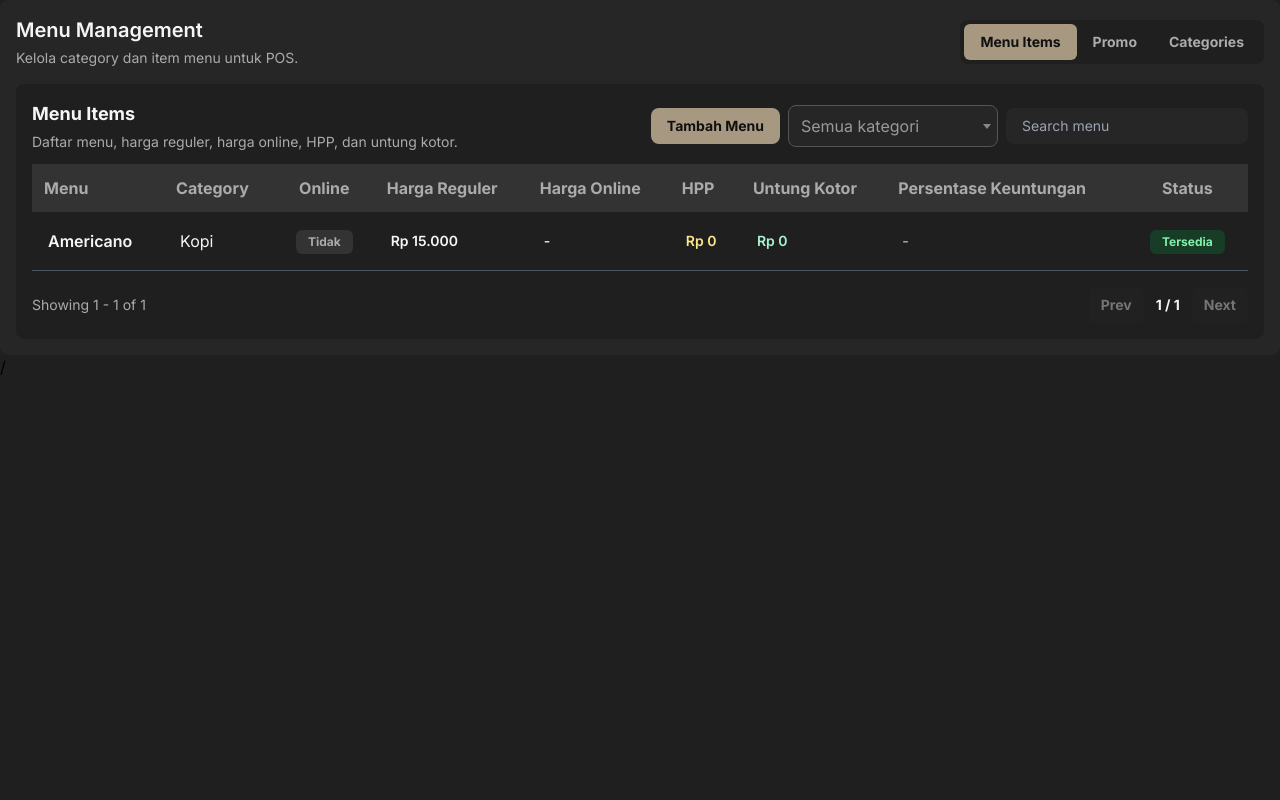
Test case: menu recipe editor › lets kasir add menus, promos and categories but change or delete nothing
Expected: the text "Americano" is shown, x1=32 y1=212 x2=164 y2=270
Click the button "Tambah Menu": (715, 126) x1=651 y1=108 x2=780 y2=144
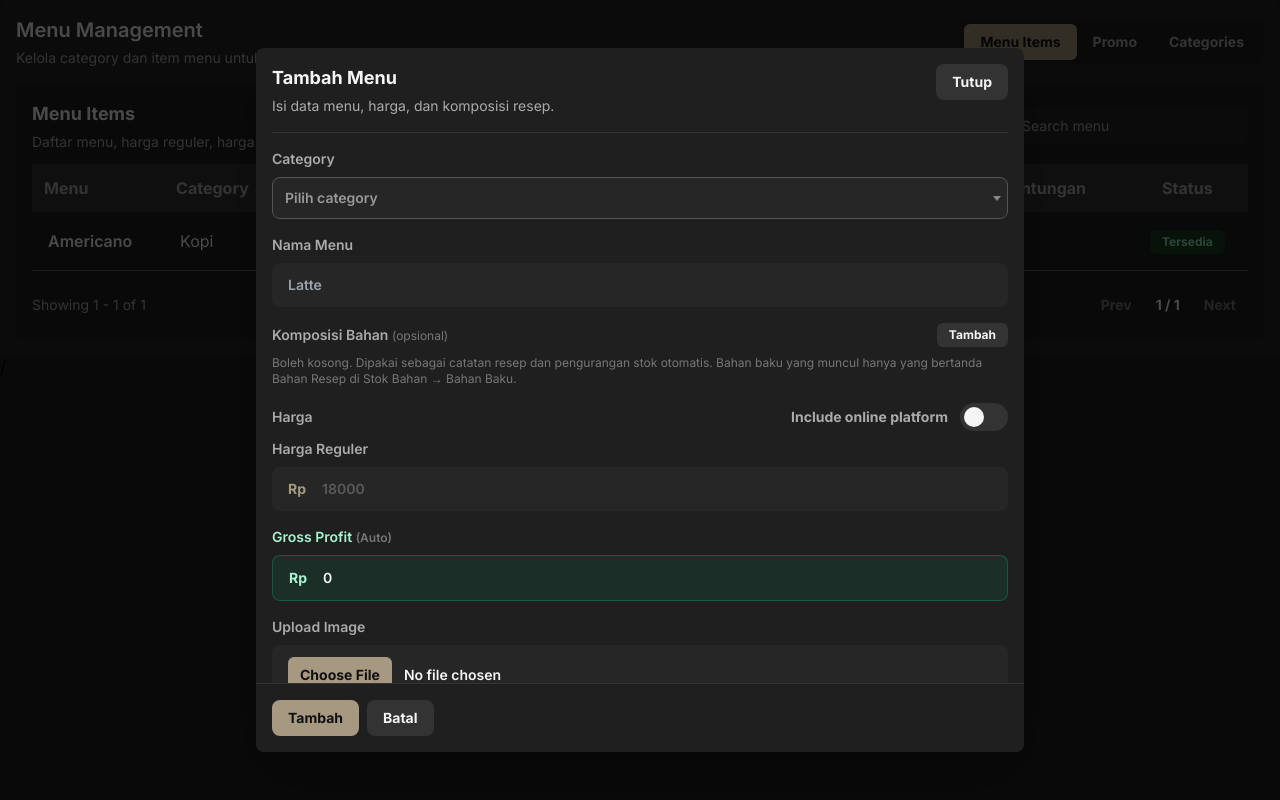
Expected: the text "Komposisi Bahan" is shown, x1=272 y1=326 x2=392 y2=343
Click the button "Batal": (400, 718) x1=367 y1=700 x2=434 y2=736
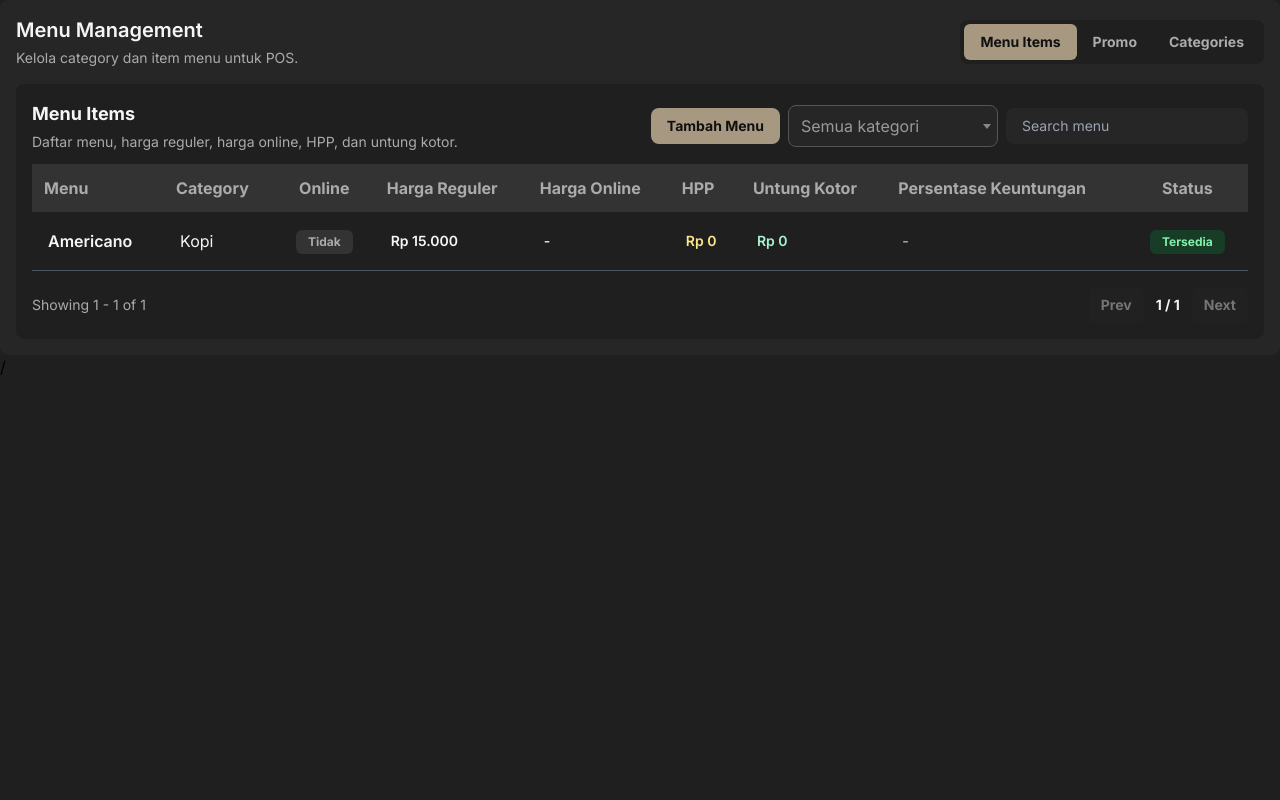
Click the button "Promo": (1115, 42) x1=1077 y1=24 x2=1153 y2=60
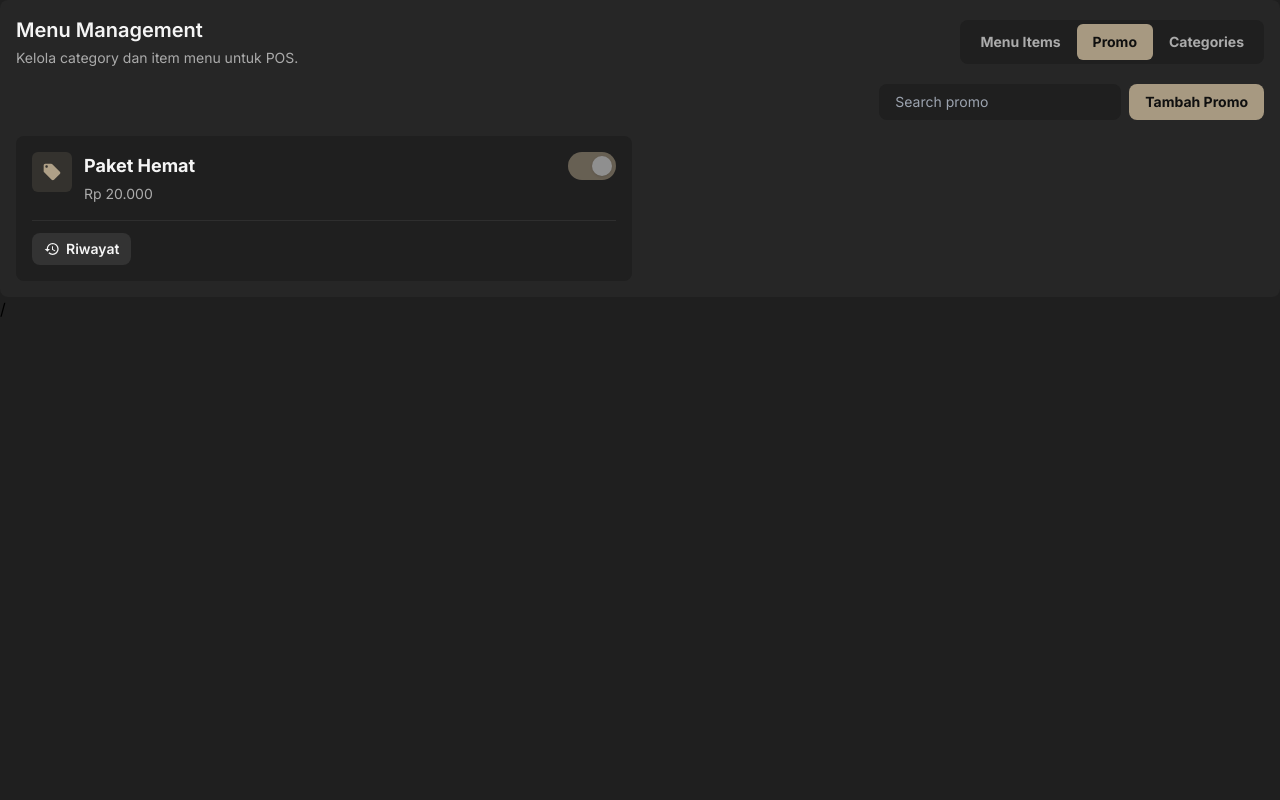
Expected: the heading "Paket Hemat" is shown, x1=84 y1=152 x2=195 y2=180
Expected: the button "Tambah Promo" is shown, x1=1129 y1=84 x2=1264 y2=120
Expected: the button with aria-label "Riwayat Paket Hemat" is shown, x1=32 y1=233 x2=131 y2=265
Categories: Tambah Category, not dragged.
Click the button "Categories": (1206, 42) x1=1153 y1=24 x2=1260 y2=60
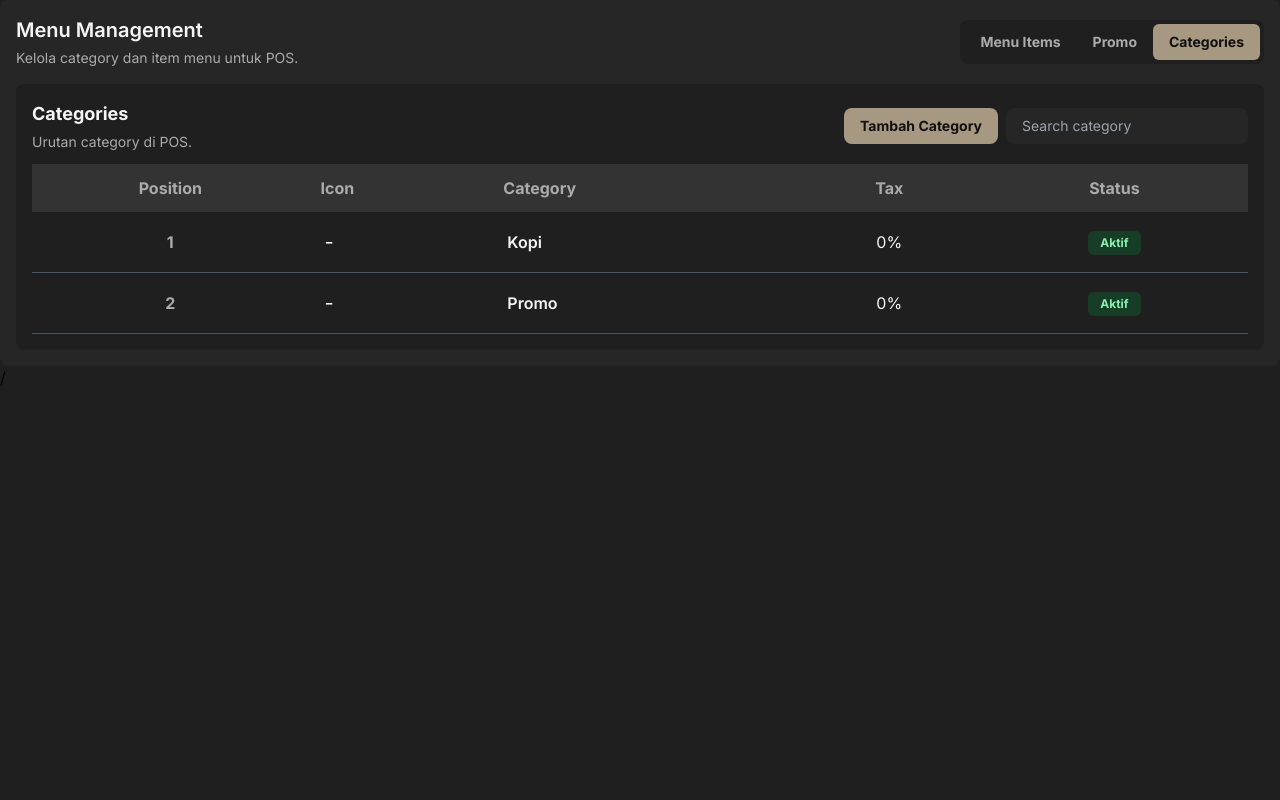
Expected: the button "Tambah Category" is shown, x1=844 y1=108 x2=998 y2=144
